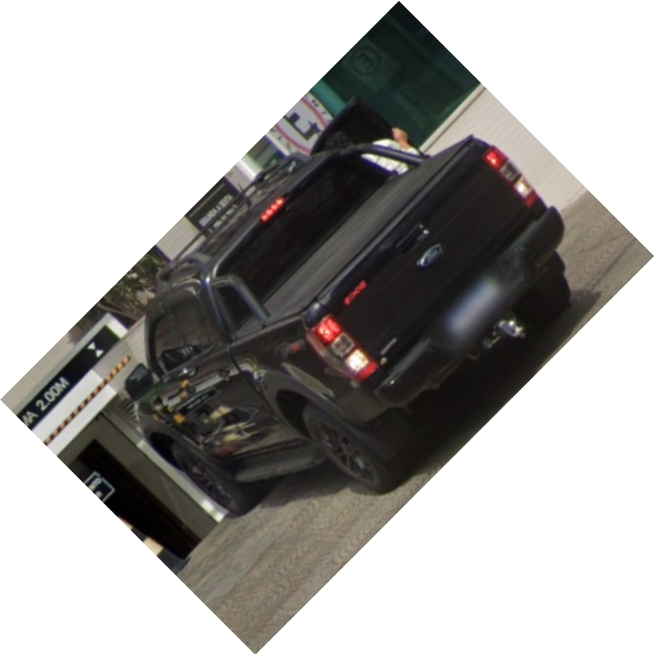car: (111, 91, 604, 522)
